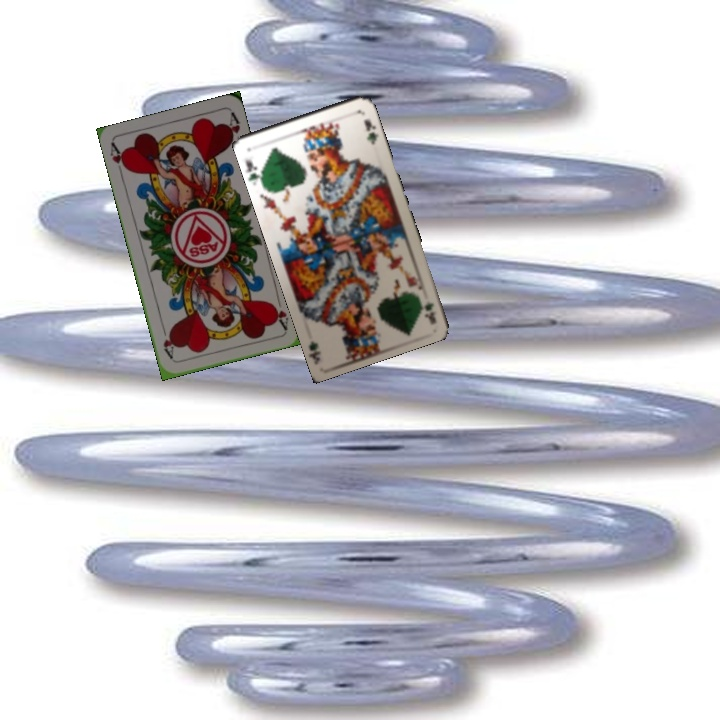GK: (241, 155, 265, 188), (420, 297, 439, 326)
HA: (106, 139, 131, 179), (271, 291, 291, 332)
